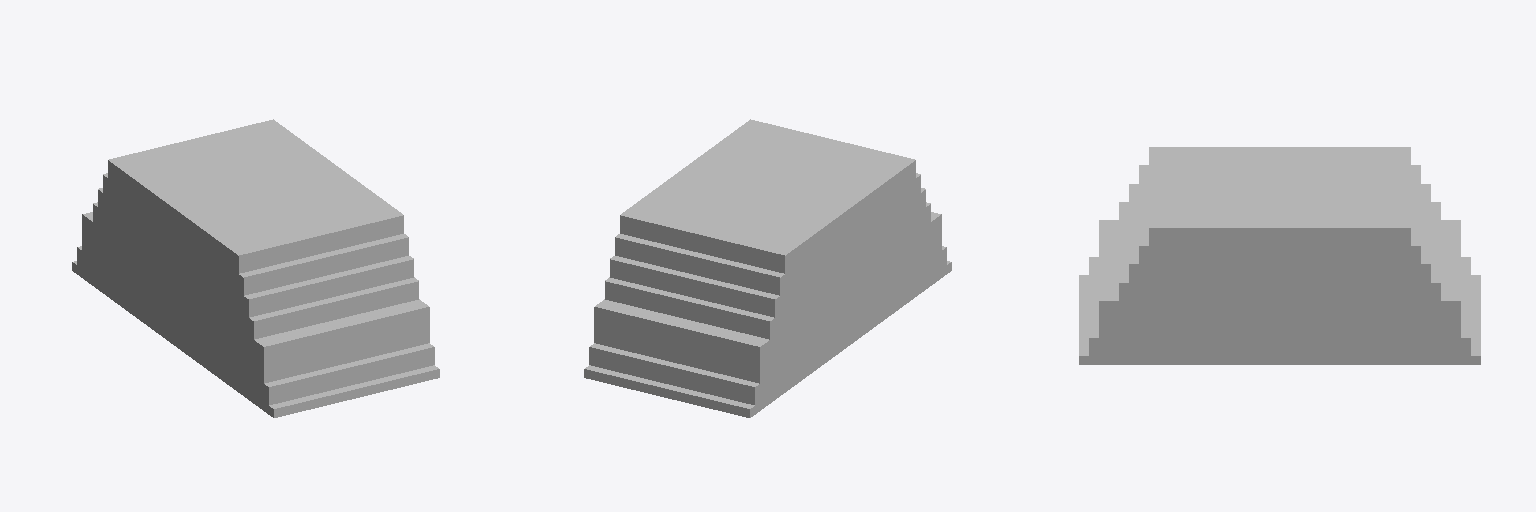
The model's file is gold.obj.
The picture shows the model from 3 angles: view 1: azimuth 30°, elevation 25°; view 2: azimuth 150°, elevation 25°; view 3: azimuth 270°, elevation 25°; orthographic projection.
Visible parts, largest first — view 1: object 1; view 2: object 1; view 3: object 1.
Boxes of the visible parts, box(x1,y1,x2,y2) form: object 1: box(72, 119, 439, 417); object 1: box(584, 119, 951, 417); object 1: box(1079, 147, 1480, 364).
Bounding box in the file's own units: 1.9 × 1.5 × 4.